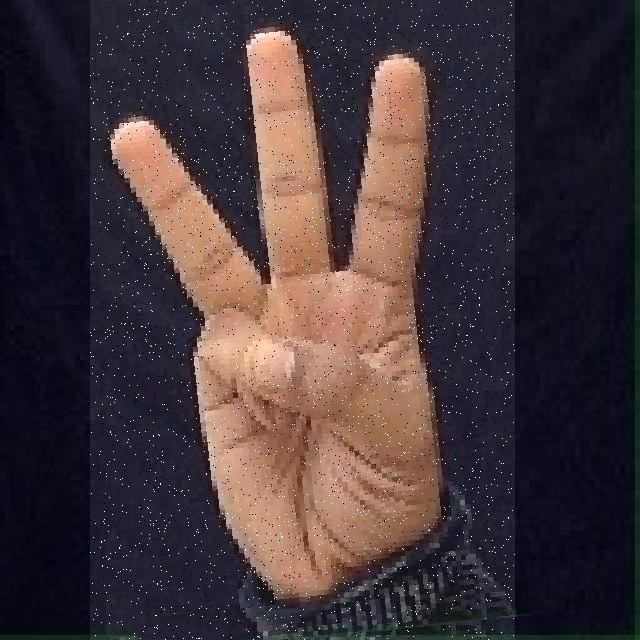Please: (90, 0, 515, 640)
